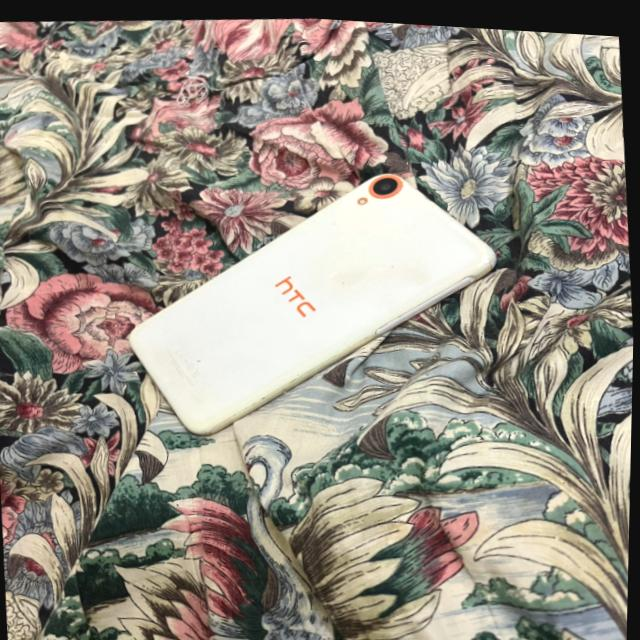Smartphone: (129, 168, 497, 432)
